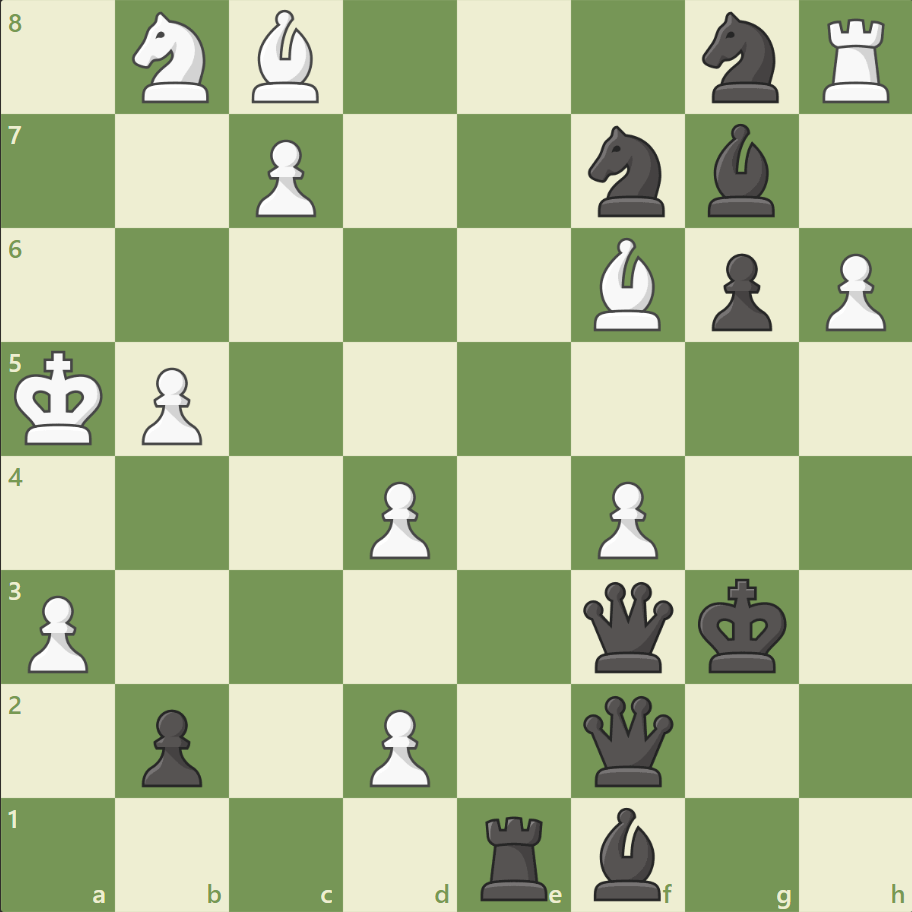B: (244, 6, 328, 109), (585, 233, 669, 336)
K: (11, 344, 111, 452)
N: (124, 7, 222, 110)
P: (247, 132, 322, 223), (133, 359, 208, 450), (20, 586, 95, 677), (815, 246, 889, 337), (361, 473, 435, 564), (588, 473, 662, 564), (361, 700, 435, 791)
R: (814, 12, 897, 109)
b: (585, 801, 669, 904), (698, 120, 782, 222)
k: (692, 571, 792, 679)
n: (692, 7, 789, 110), (579, 121, 676, 223)
p: (701, 246, 776, 337), (133, 700, 208, 791)
q: (578, 576, 677, 676), (578, 690, 677, 789)
r: (473, 806, 556, 904)
